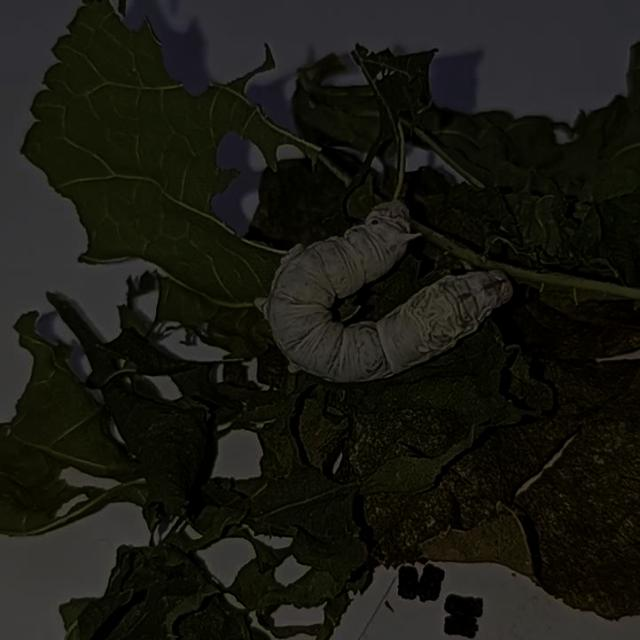Healthy: (248, 188, 519, 395)
